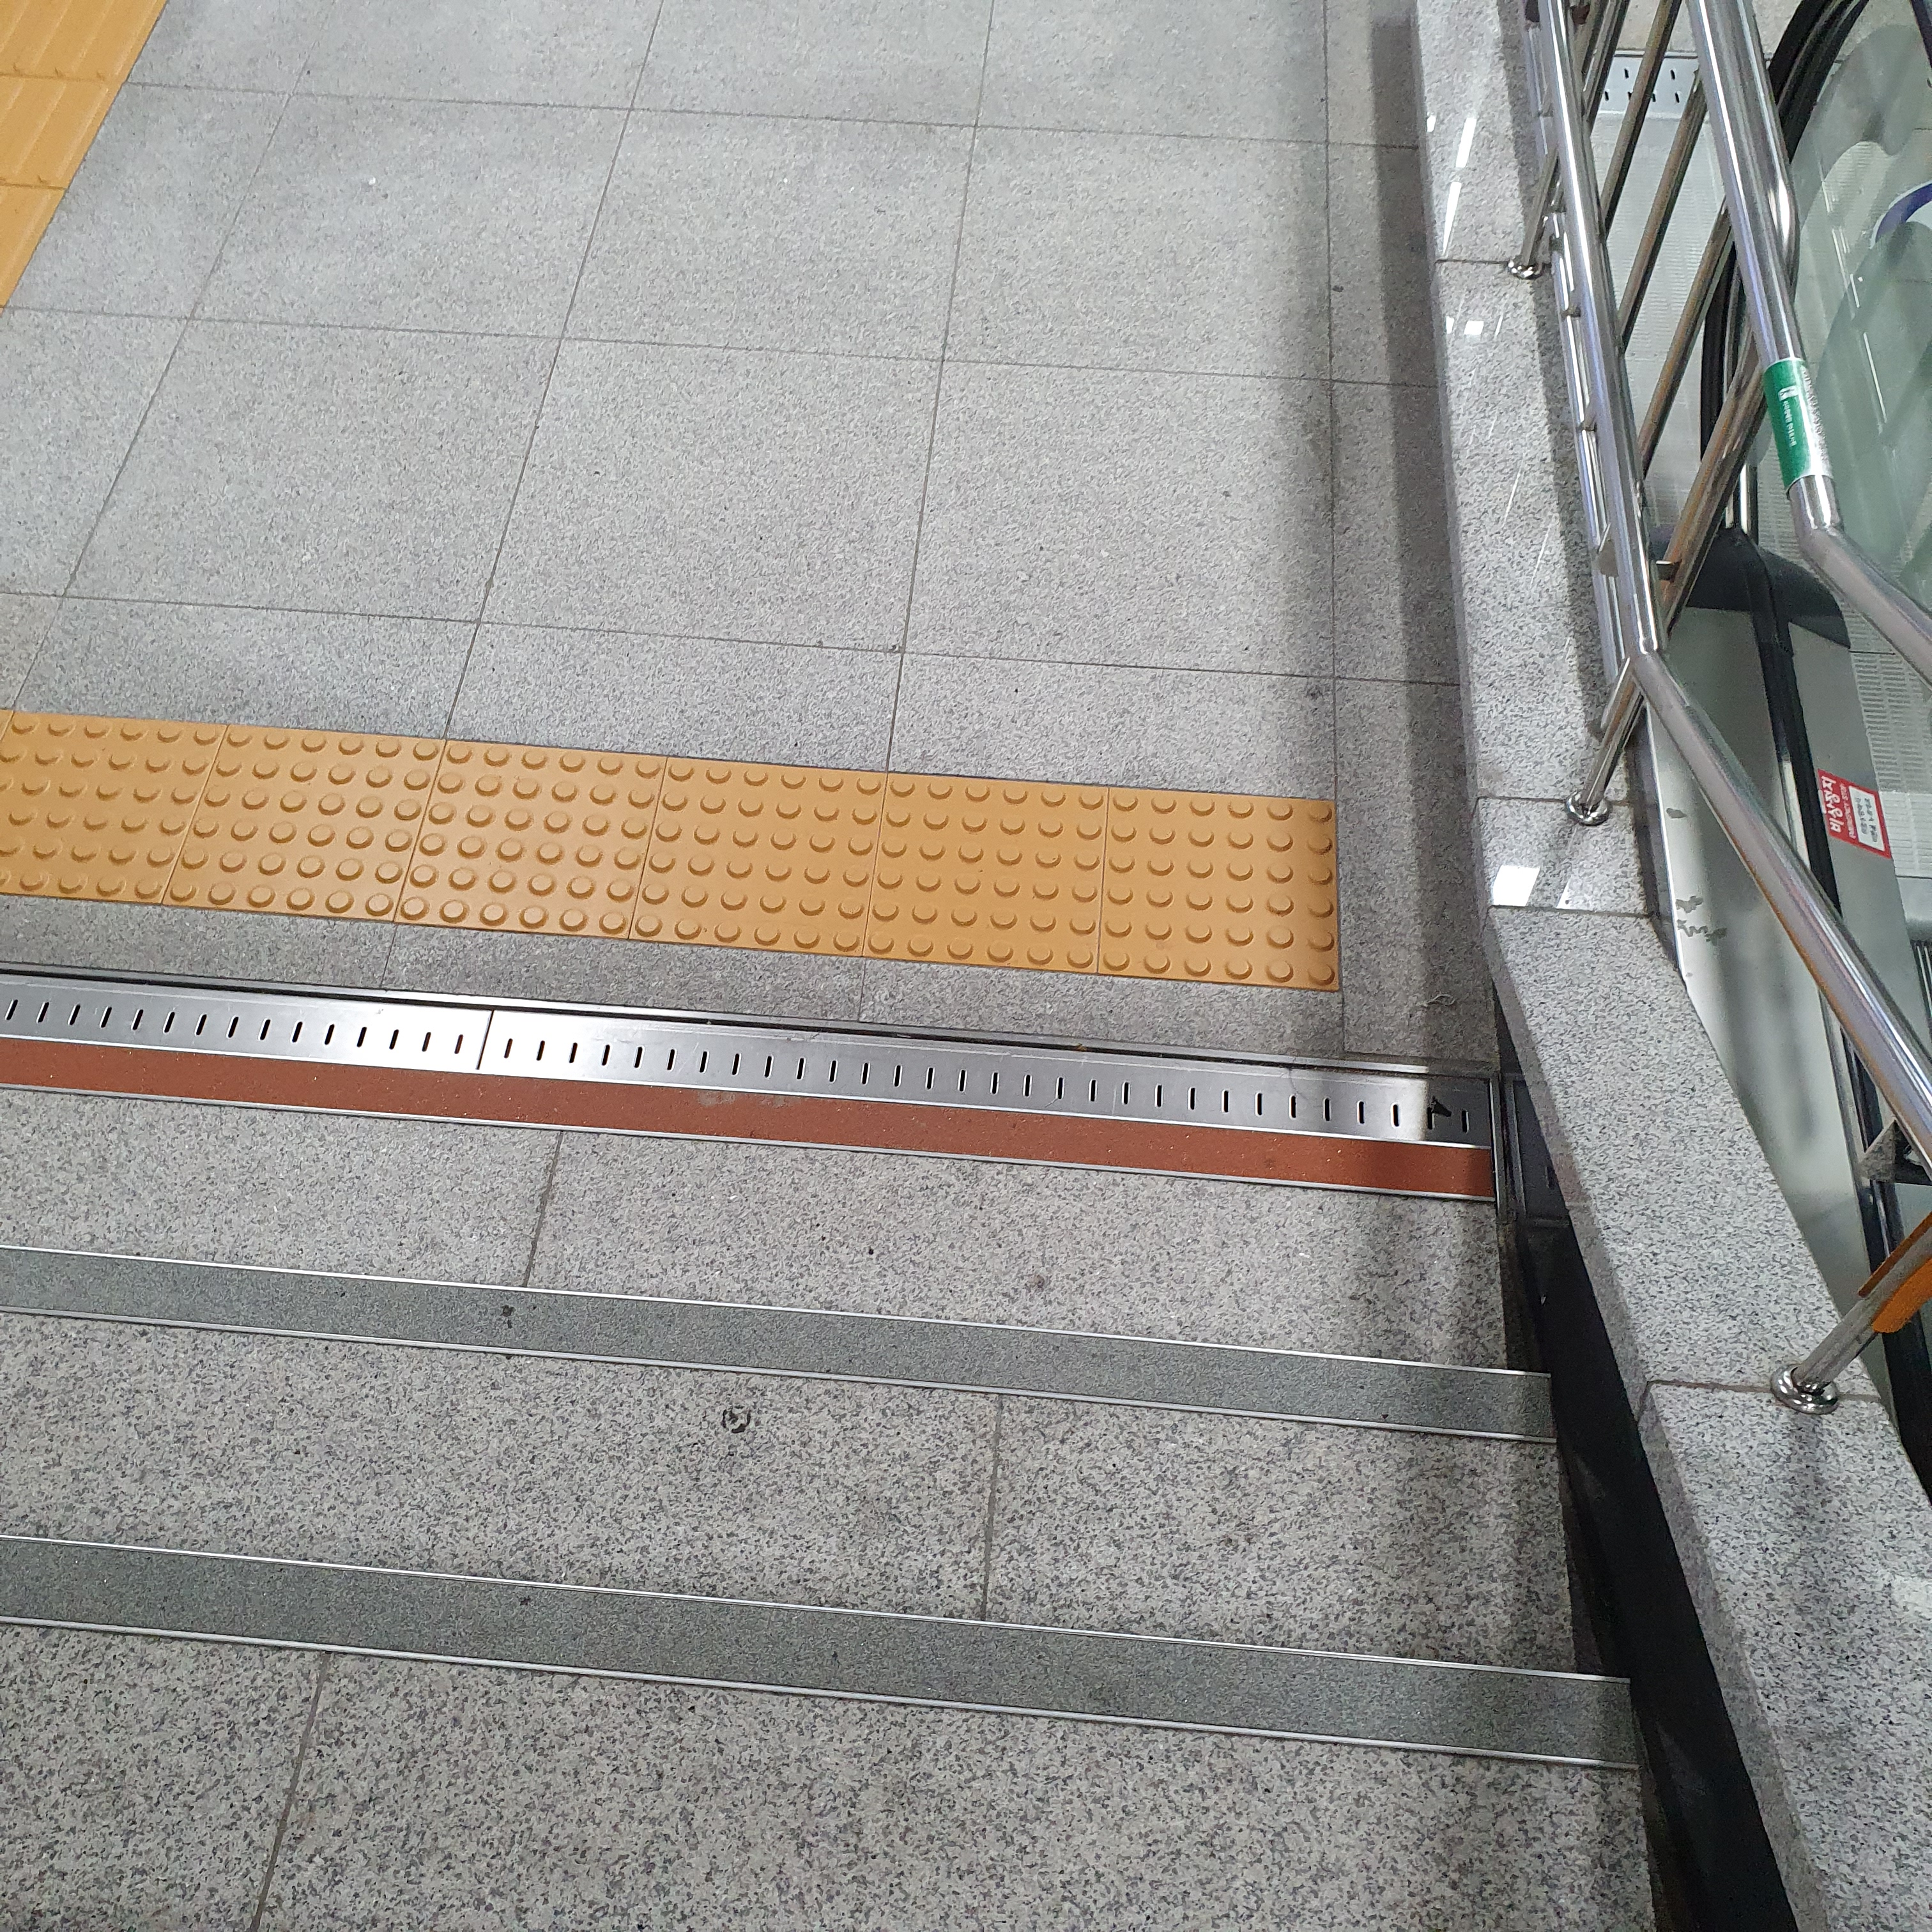warningBlock: (660, 761, 904, 980), (1118, 796, 1364, 1001), (177, 717, 418, 922), (902, 764, 1118, 980), (421, 738, 651, 932), (4, 699, 189, 885)
